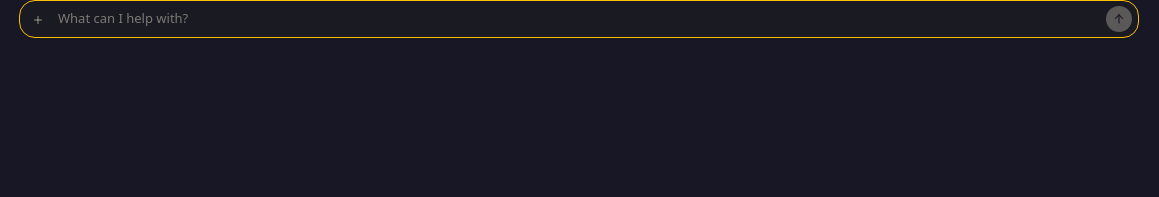
Test case: Composer prompt picker › typing / opens the list inline; arrows move, Enter inserts (and does not send), the text replaces the slash
Type "/" into the text box named "Message" at point(578, 19), box [54,6,1102,32]
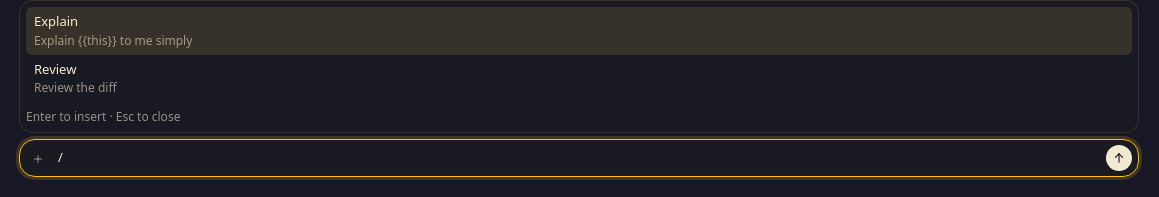
Result: the list named "Saved prompts" is shown at [26,7,1132,102]
Press Arrowdown
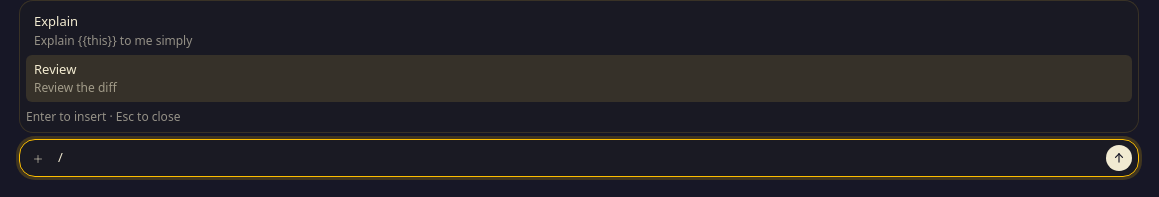
Result: the option "Review Review the diff" is selected at [26,54,1132,102]
Press Enter
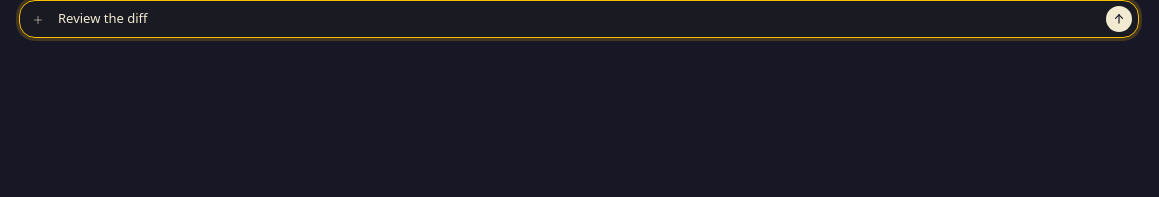
Result: the text box named "Message" holds "Review the diff" at [54,6,1102,32]
Result: the list is gone
